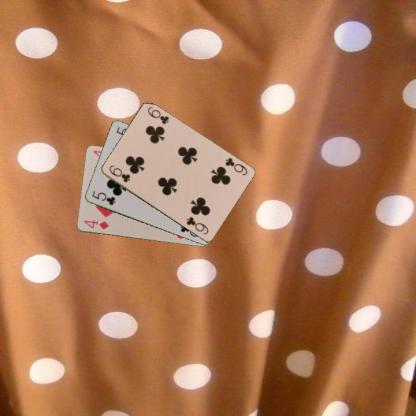4d: (81, 217, 110, 231)
5c: (90, 188, 116, 206)
6c: (223, 155, 249, 177), (106, 162, 131, 184)
